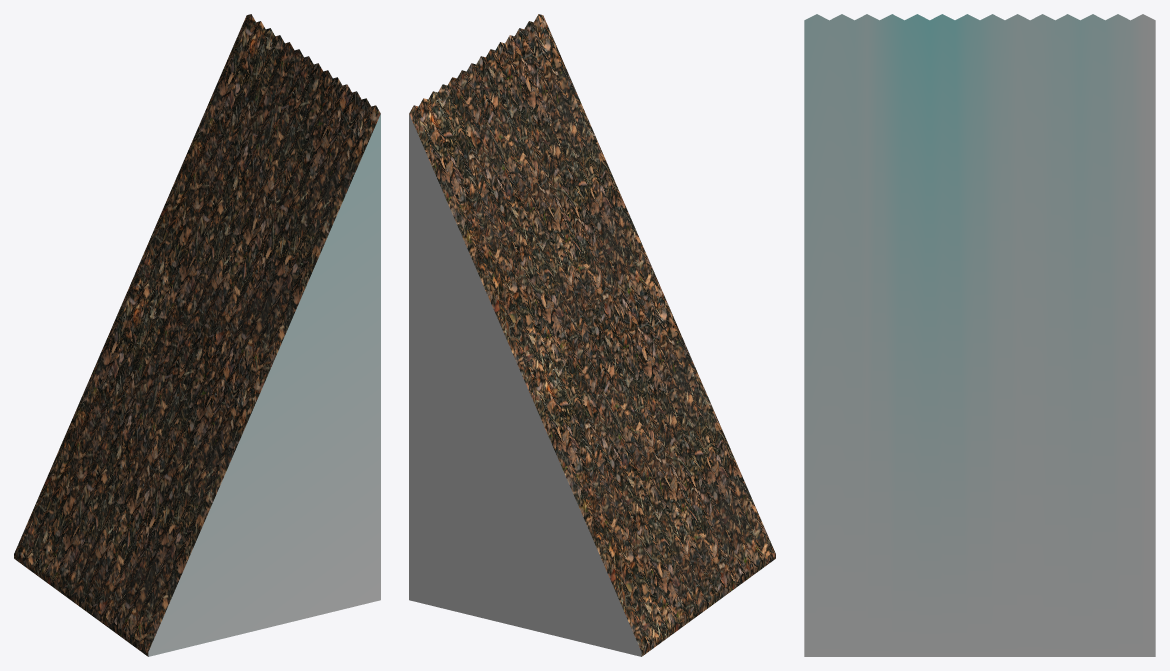
The picture shows the model from 3 angles, left to right: view 1: azimuth 30°, elevation 25°; view 2: azimuth 150°, elevation 25°; view 3: azimuth 270°, elevation 25°; orthographic projection. The views are drawn at different scales.
Visible parts, largest first — view 1: SM_SlantedRoof-2_LOD0; view 2: SM_SlantedRoof-2_LOD0; view 3: SM_SlantedRoof-2_LOD0.
Part boxes in pixels (left/top/right/bottom): SM_SlantedRoof-2_LOD0: left=14, top=14, right=380, bottom=656; SM_SlantedRoof-2_LOD0: left=409, top=14, right=775, bottom=656; SM_SlantedRoof-2_LOD0: left=804, top=14, right=1155, bottom=656.
Bounding box in the file's own units: 500 × 500 × 1010.
